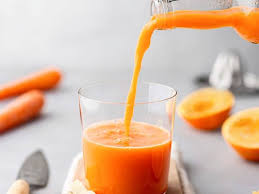carrot: (1, 71, 65, 137)
